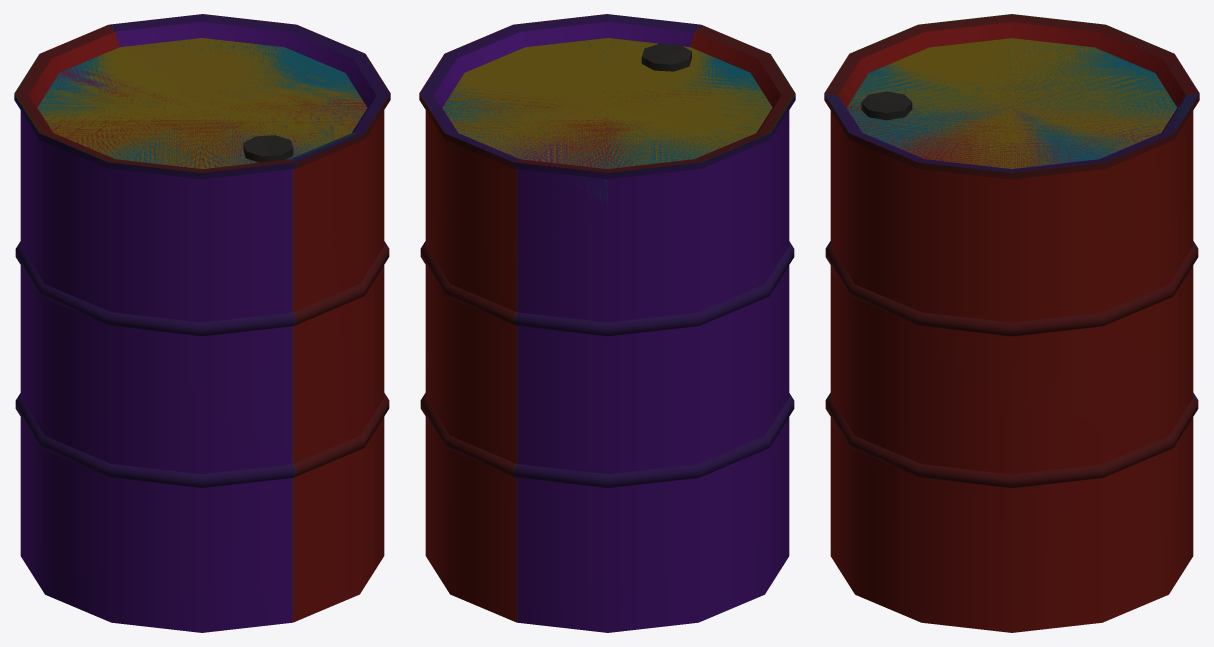
File: BarrisMetalicos.fbx
3 views of the same model, side by side, from view 1: azimuth 30°, elevation 25°; view 2: azimuth 150°, elevation 25°; view 3: azimuth 270°, elevation 25° (orthographic).
Parts seen in each view (by area): view 1: MetallicBarrelsV, MetallicBarrelsR, MetallicBarrelsY, MetallicBarrelsB, MetallicBarrelsP, MetallicBarrelsG; view 2: MetallicBarrelsV, MetallicBarrelsR, MetallicBarrelsY, MetallicBarrelsB, MetallicBarrelsP, MetallicBarrelsG; view 3: MetallicBarrelsR, MetallicBarrelsY, MetallicBarrelsB, MetallicBarrelsV, MetallicBarrelsP.
Boxes of the visible parts, box(x1,y1,x2,y2) form: MetallicBarrelsV: box(14, 14, 389, 632); MetallicBarrelsR: box(15, 14, 390, 622); MetallicBarrelsY: box(37, 38, 367, 168); MetallicBarrelsB: box(37, 38, 366, 475); MetallicBarrelsP: box(40, 25, 367, 622); MetallicBarrelsG: box(14, 54, 296, 613); MetallicBarrelsV: box(420, 14, 795, 632); MetallicBarrelsR: box(419, 14, 794, 622); MetallicBarrelsY: box(442, 38, 772, 168); MetallicBarrelsB: box(442, 15, 772, 475); MetallicBarrelsP: box(466, 25, 769, 172); MetallicBarrelsG: box(513, 54, 795, 622); MetallicBarrelsR: box(824, 14, 1199, 632); MetallicBarrelsY: box(847, 38, 1176, 168); MetallicBarrelsB: box(825, 40, 1198, 166); MetallicBarrelsV: box(825, 91, 1198, 399); MetallicBarrelsP: box(824, 55, 1199, 399).
Size of the model in its own units: 208 by 282 by 207.
